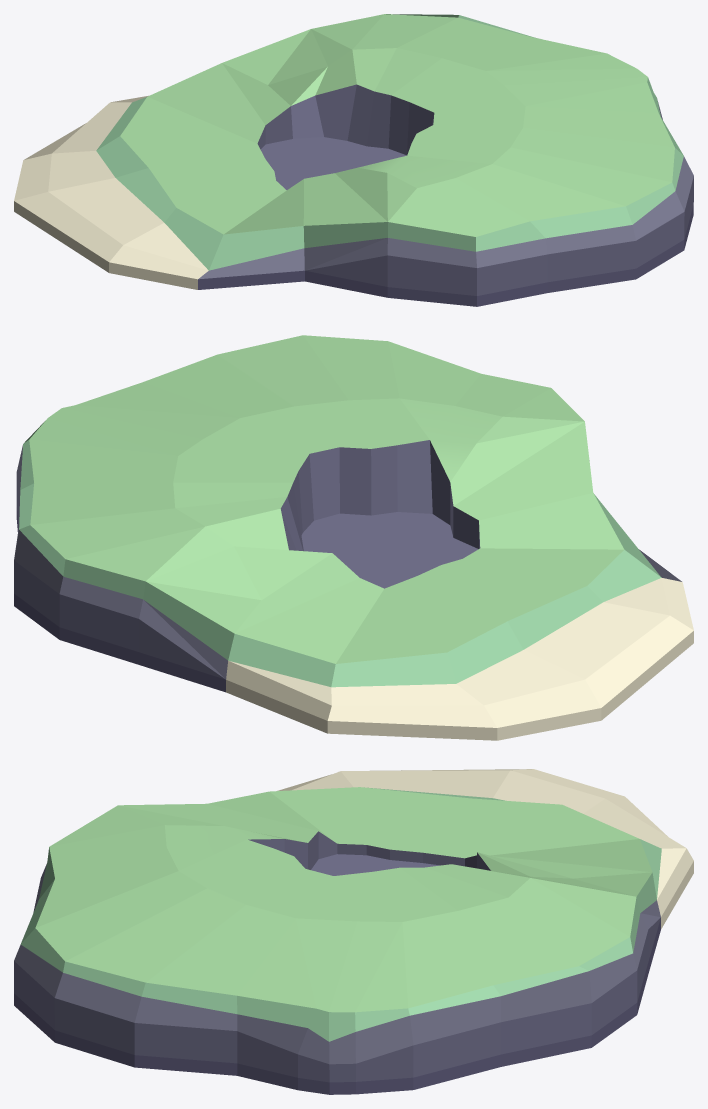
File: Island.fbx
3 renders of one model, top to bottom at view 1: azimuth 30°, elevation 25°; view 2: azimuth 150°, elevation 25°; view 3: azimuth 270°, elevation 25°, orthographic. The views are drawn at different scales.
Visible parts, largest first — view 1: Island_geo; view 2: Island_geo; view 3: Island_geo.
Part boxes in pixels (x1,y1,x2,y2): Island_geo: [14, 14, 693, 306]; Island_geo: [14, 335, 693, 740]; Island_geo: [14, 769, 693, 1094].
Bounding box in the file's own units: 5160 × 721 × 4732.
Materials: 1 (1 with a texture image).
